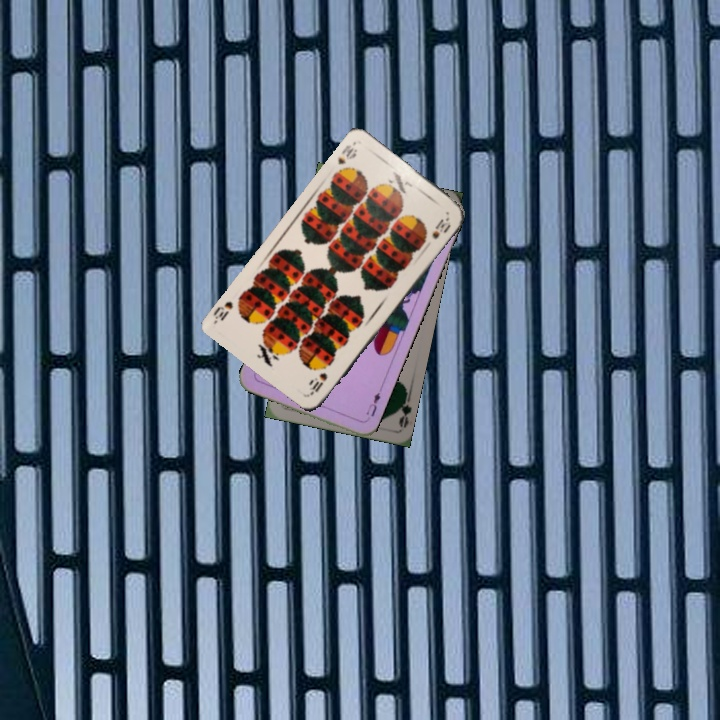EU: (362, 385, 384, 423)
GO: (392, 388, 413, 430)
S10: (333, 139, 360, 167), (306, 368, 330, 397)
